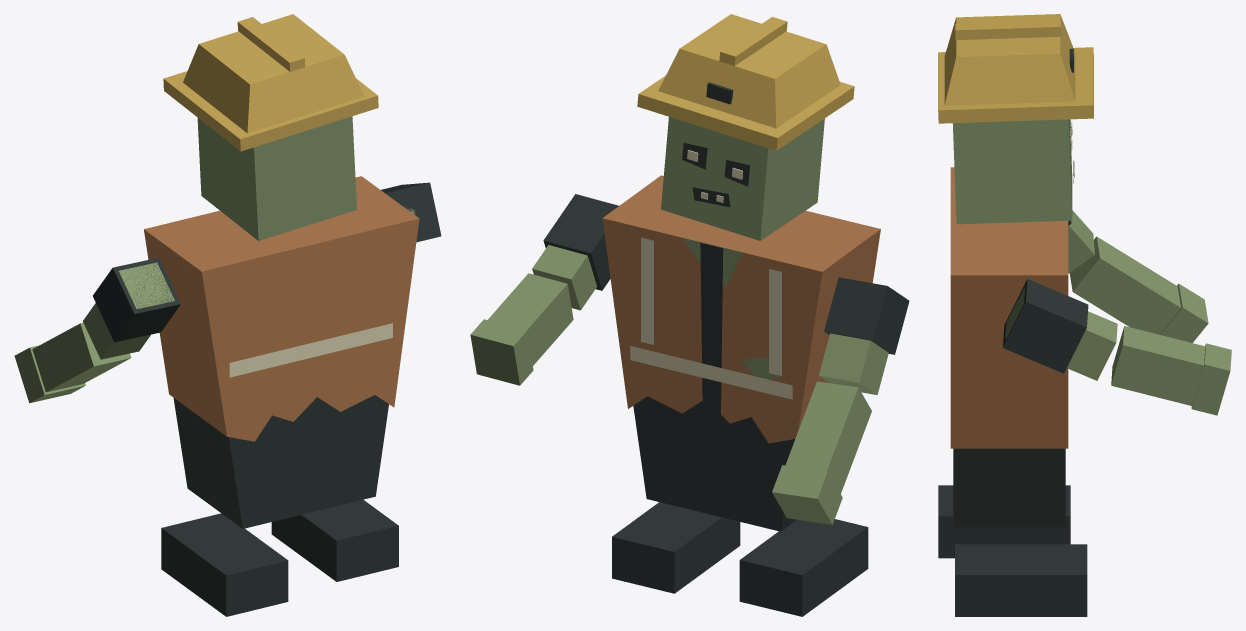
The model's file is zombie_worker.glb.
The picture shows the model from 3 angles, left to right: view 1: azimuth 30°, elevation 25°; view 2: azimuth 150°, elevation 25°; view 3: azimuth 270°, elevation 25°; orthographic projection.
Parts seen in each view (by area): view 1: body, hat, head, ShoeLeft, ShoeRight, armLeft, handLeft, armRight; view 2: body, hat, head, ShoeLeft, handLeft, ShoeRight, armLeft, handRight, armRight; view 3: body, hat, head, ShoeRight, handLeft, armRight, handRight, ShoeLeft, armLeft.
Boxes of the visible parts, box(x1,y1,x2,y2) form: body: box(144, 176, 419, 528); hat: box(163, 14, 378, 151); head: box(197, 116, 356, 240); ShoeLeft: box(161, 513, 288, 616); ShoeRight: box(271, 499, 398, 581); armLeft: box(83, 257, 180, 359); handLeft: box(14, 323, 131, 403); armRight: box(381, 182, 441, 242); body: box(602, 175, 880, 531); hat: box(637, 14, 854, 150); head: box(661, 117, 824, 240); ShoeLeft: box(739, 519, 868, 616); handLeft: box(772, 381, 871, 524); ShoeRight: box(612, 502, 740, 593); armLeft: box(819, 277, 909, 395); handRight: box(470, 273, 573, 385); armRight: box(532, 194, 618, 310); body: box(950, 167, 1068, 527); hat: box(938, 14, 1093, 123); head: box(953, 119, 1074, 224); ShoeRight: box(955, 544, 1087, 616); handLeft: box(1069, 236, 1208, 342); armRight: box(1003, 279, 1117, 380); handRight: box(1111, 326, 1231, 415); ShoeLeft: box(938, 485, 1070, 558); armLeft: box(1068, 210, 1094, 273).
Size of the model in its own units: 1.17 by 1.81 by 0.8876.
